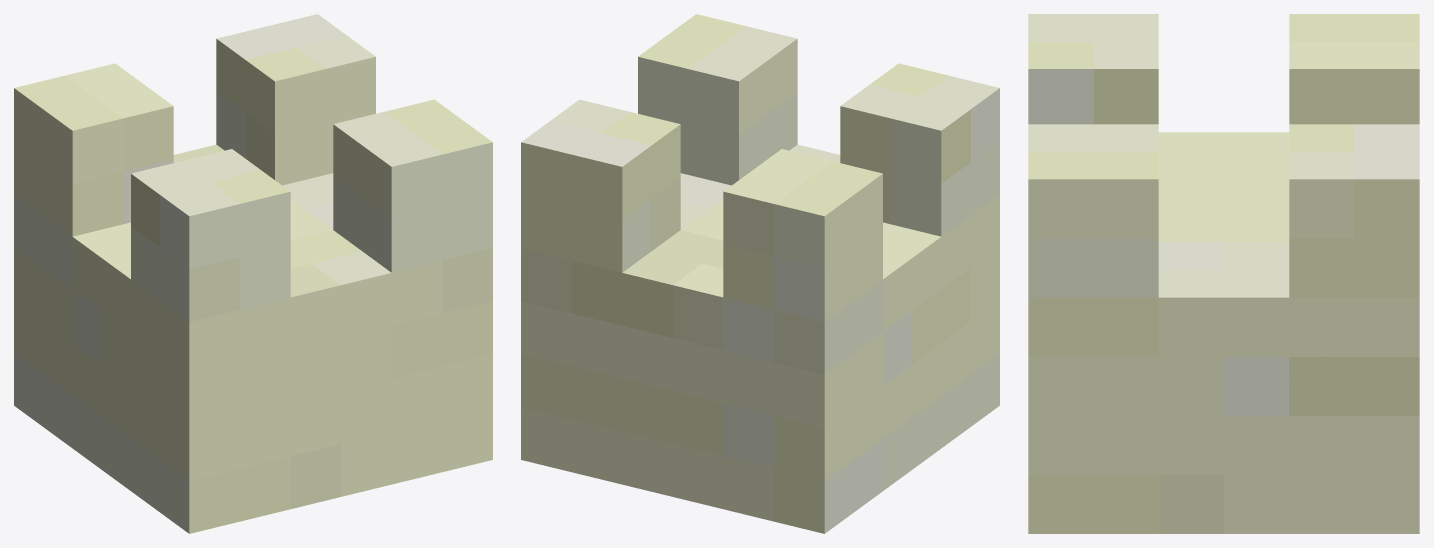
File: diabork_tooth.fbx
3 views of the same model, side by side, from view 1: azimuth 30°, elevation 25°; view 2: azimuth 150°, elevation 25°; view 3: azimuth 270°, elevation 25° (orthographic). The views are drawn at different scales.
Parts seen in each view (by area): view 1: cube, cube_2, cube_3, cube_4, cube_1; view 2: cube, cube_1, cube_4, cube_3, cube_2; view 3: cube, cube_1, cube_2, cube_3, cube_4.
Boxes of the visible parts, <box> form: cube: <box>14,144,492,533</box>; cube_2: <box>333,99,492,272</box>; cube_3: <box>131,149,290,321</box>; cube_4: <box>14,63,173,236</box>; cube_1: <box>216,14,375,185</box>; cube: <box>521,144,999,533</box>; cube_1: <box>521,99,680,272</box>; cube_4: <box>723,149,882,321</box>; cube_3: <box>840,63,999,236</box>; cube_2: <box>638,14,797,185</box>; cube: <box>1028,132,1419,533</box>; cube_1: <box>1289,124,1419,297</box>; cube_2: <box>1028,124,1158,297</box>; cube_3: <box>1028,14,1158,124</box>; cube_4: <box>1289,14,1419,124</box>.
Size of the model in its own units: 37.5 by 37.5 by 37.5.
Materials: 1 (1 with a texture image).
